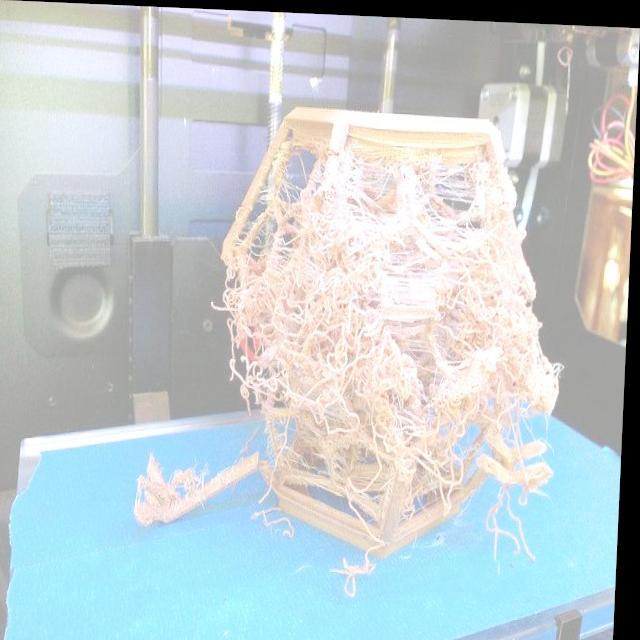spaghetti: (227, 264, 396, 428), (293, 150, 511, 274), (446, 283, 562, 429), (384, 358, 461, 512)
